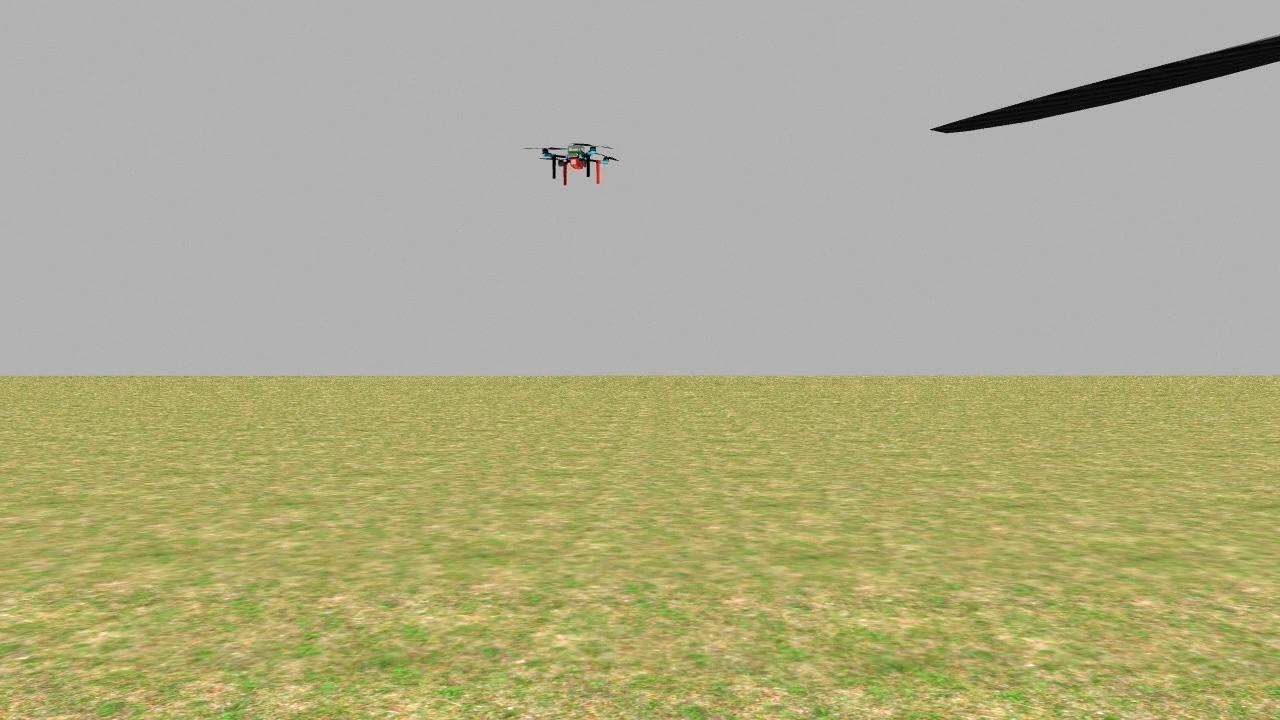UAV: (534, 129, 620, 198)
